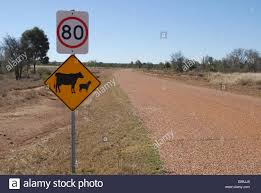Speed_limit_80km: (57, 17, 89, 49)
